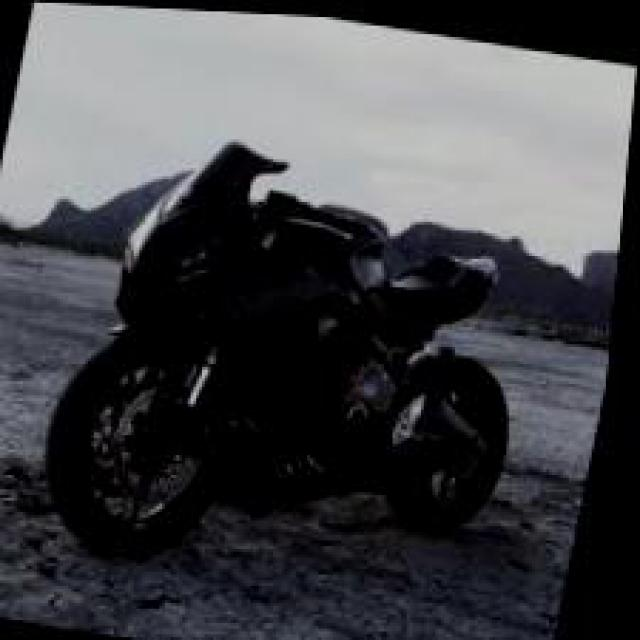CBR650R: (27, 114, 567, 612)
